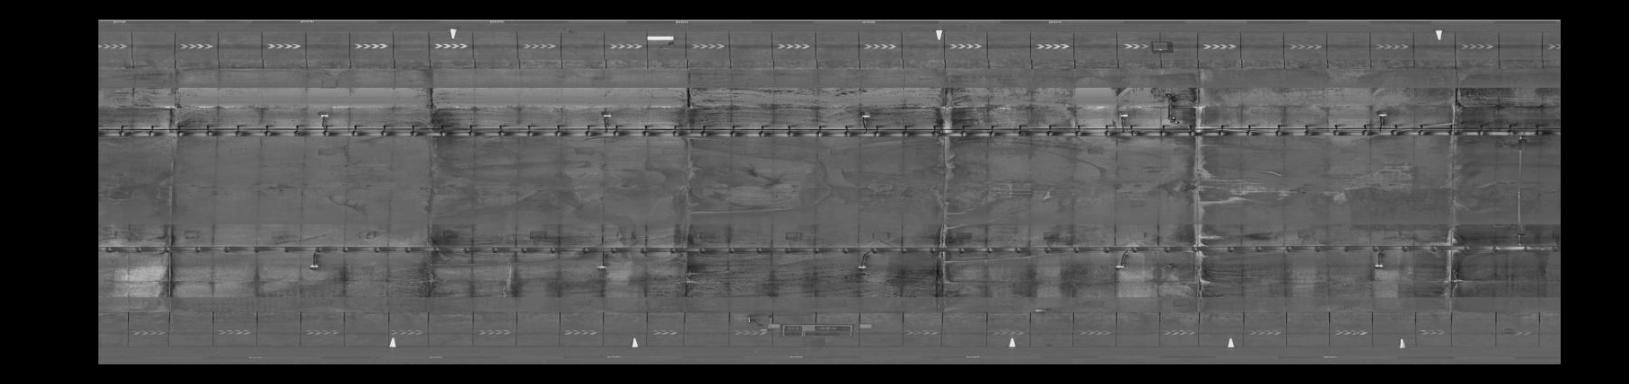light: (1364, 259, 1389, 274), (1112, 111, 1134, 121), (1110, 262, 1130, 272), (1373, 109, 1390, 121), (852, 262, 872, 272), (305, 260, 322, 272), (593, 262, 611, 272), (315, 112, 333, 121), (856, 111, 873, 121), (599, 111, 617, 120)
